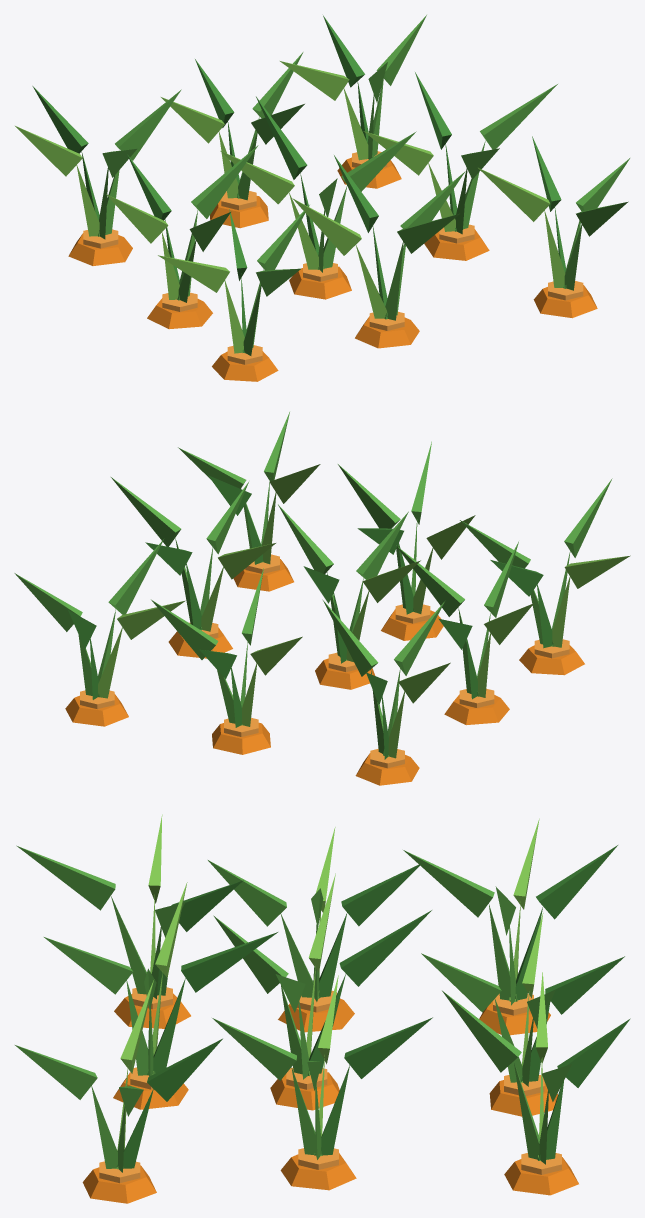
File: carrot-3.glb
3 views of the same model, one above another, from view 1: azimuth 30°, elevation 25°; view 2: azimuth 150°, elevation 25°; view 3: azimuth 270°, elevation 25° (orthographic). The views are drawn at different scales.
Parts seen in each view (by area): view 1: carrot-3; view 2: carrot-3; view 3: carrot-3.
Boxes of the visible parts, left/top/right/bottom form: carrot-3: left=15, top=15, right=629, bottom=381; carrot-3: left=14, top=412, right=630, bottom=785; carrot-3: left=15, top=814, right=630, bottom=1203.
Bounding box in the file's own units: 0.7958 × 0.2503 × 0.7856.
1 material, 1 textured.
